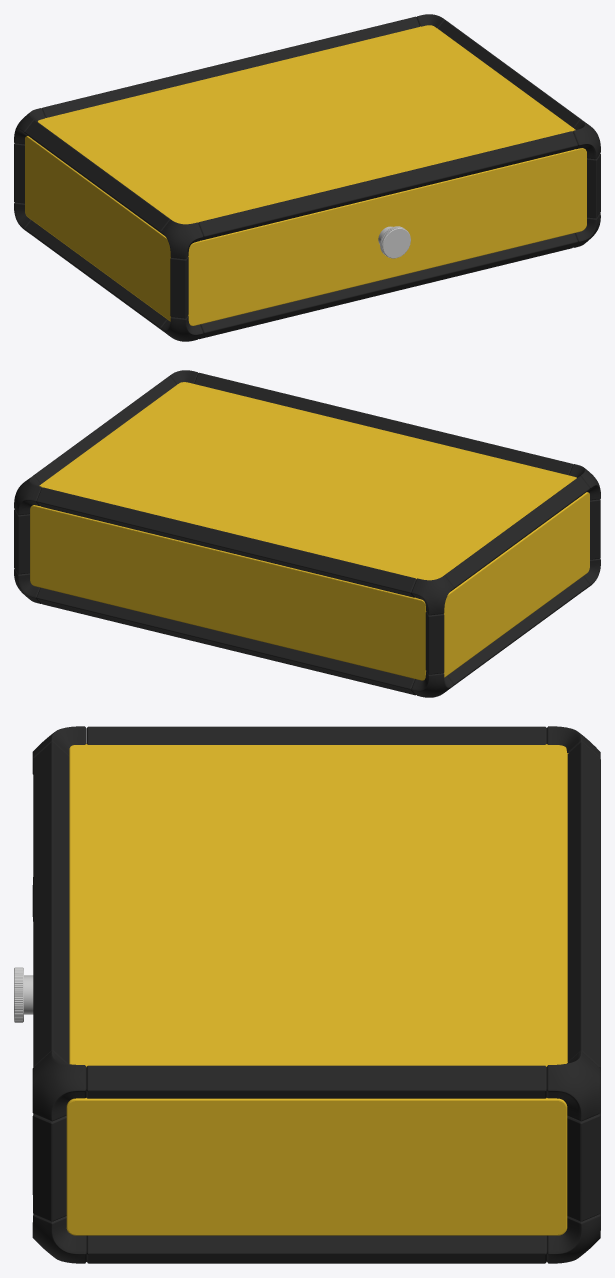
3 views of the same model, one above another, from view 1: azimuth 30°, elevation 25°; view 2: azimuth 150°, elevation 25°; view 3: azimuth 270°, elevation 25° (orthographic). The views are drawn at different scales.
Parts seen in each view (by area): view 1: 523x329x79; view 2: 523x329x79; view 3: 523x329x79.
Part boxes in pixels (x1,y1,x2,y2): 523x329x79: (14, 14, 600, 341); 523x329x79: (14, 370, 600, 697); 523x329x79: (14, 726, 600, 1263).
Size of the model in its own units: 0.6007 by 0.1566 by 0.4196.
